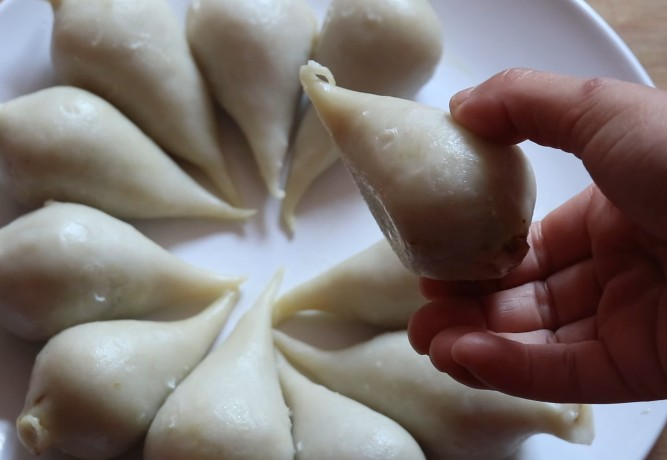yomari: (297, 59, 540, 287), (19, 301, 234, 446), (0, 93, 264, 204), (190, 4, 299, 189), (489, 398, 620, 454), (332, 0, 473, 48)
